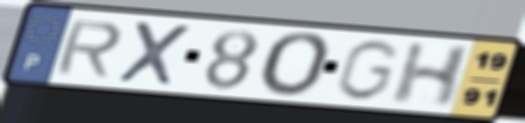8: (199, 26, 263, 93)
G: (331, 38, 403, 103)
H: (386, 41, 476, 109)
O: (257, 30, 336, 100)
R: (51, 18, 126, 79)
X: (113, 18, 195, 89)
